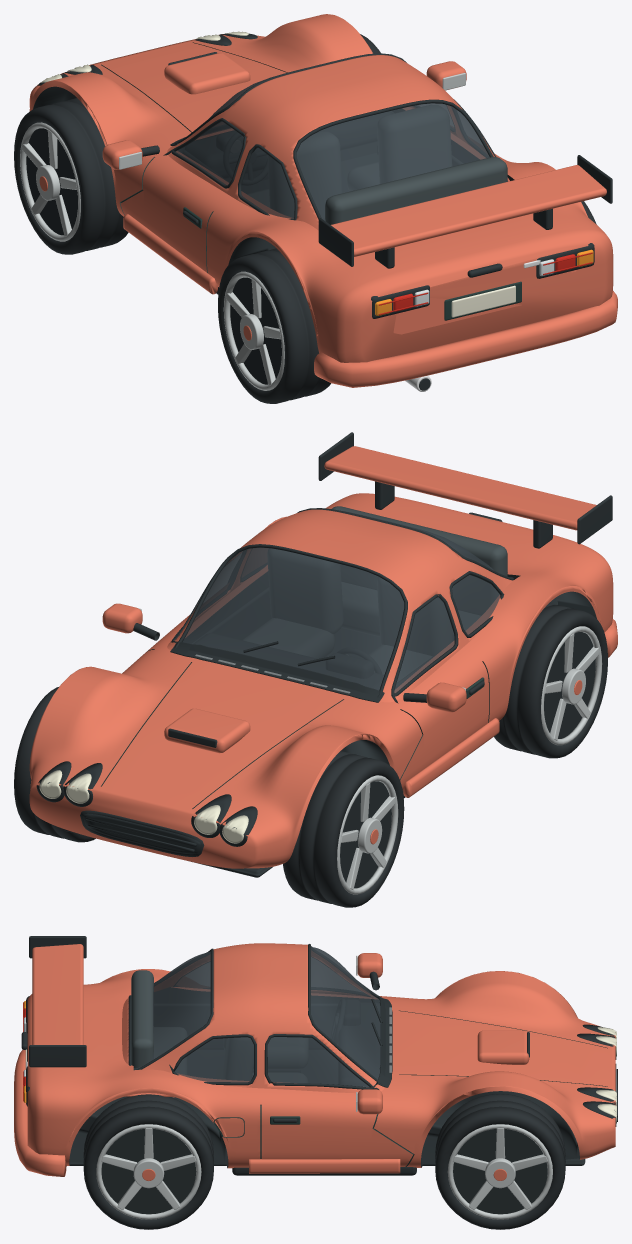
The model's file is taiyo.fbx.
The picture shows the model from 3 angles, top to bottom: view 1: azimuth 30°, elevation 25°; view 2: azimuth 150°, elevation 25°; view 3: azimuth 270°, elevation 25°; orthographic projection. The views are drawn at different scales.
Parts seen in each view (by area): view 1: Body, Wheel_FL_Mesh, Wheel_RL_Mesh; view 2: Body, Wheel_FL_Mesh, Wheel_RL_Mesh, Wheel_FR_Mesh; view 3: Body, Wheel_FR_Mesh, Wheel_RR_Mesh.
Boxes of the visible parts, x1,y1,x2,y2 form: Body: (29, 14, 617, 391); Wheel_FL_Mesh: (14, 98, 128, 254); Wheel_RL_Mesh: (218, 248, 330, 403); Body: (29, 432, 617, 877); Wheel_FL_Mesh: (283, 751, 404, 907); Wheel_RL_Mesh: (494, 603, 607, 758); Wheel_FR_Mesh: (14, 687, 95, 842); Body: (14, 936, 617, 1176); Wheel_FR_Mesh: (435, 1094, 565, 1229); Wheel_RR_Mesh: (83, 1094, 213, 1229).
Size of the model in its own units: 233 by 144 by 399.
